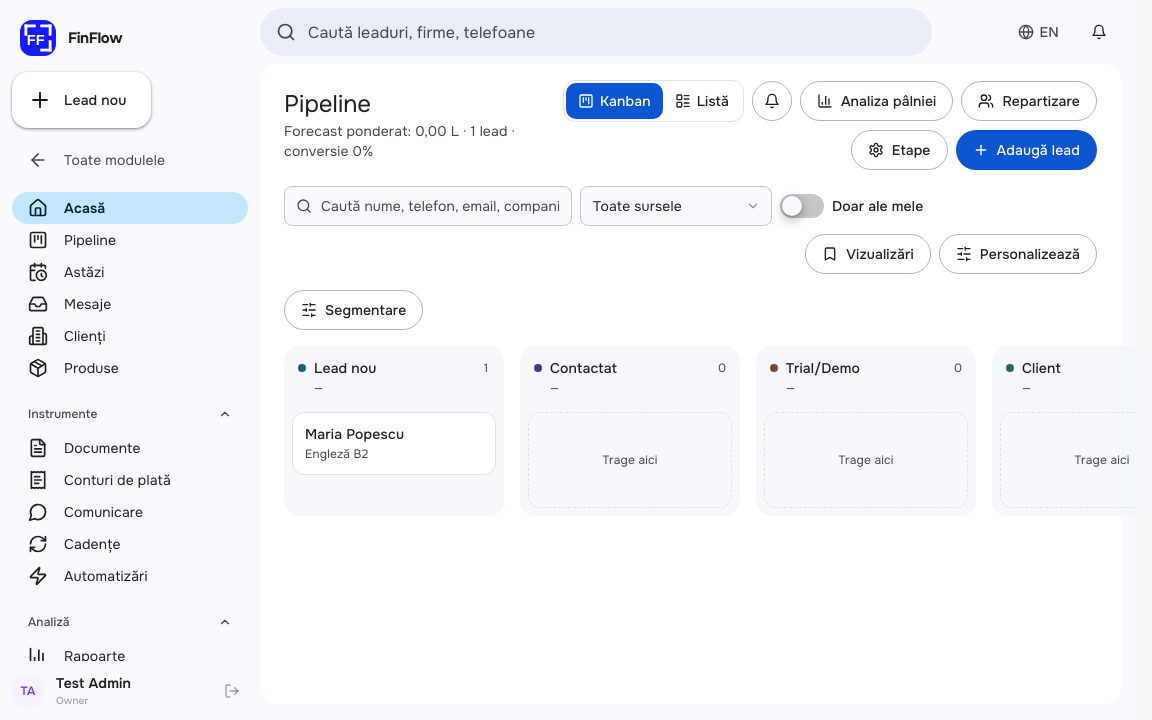
CRM (Faza 1) — LeadDetailSheet › adăugarea unei note apare imediat în istoric
Click the button with aria-label "Deschide lead Maria Popescu": x=394, y=444 top-left (293, 413), bottom-right (495, 474)
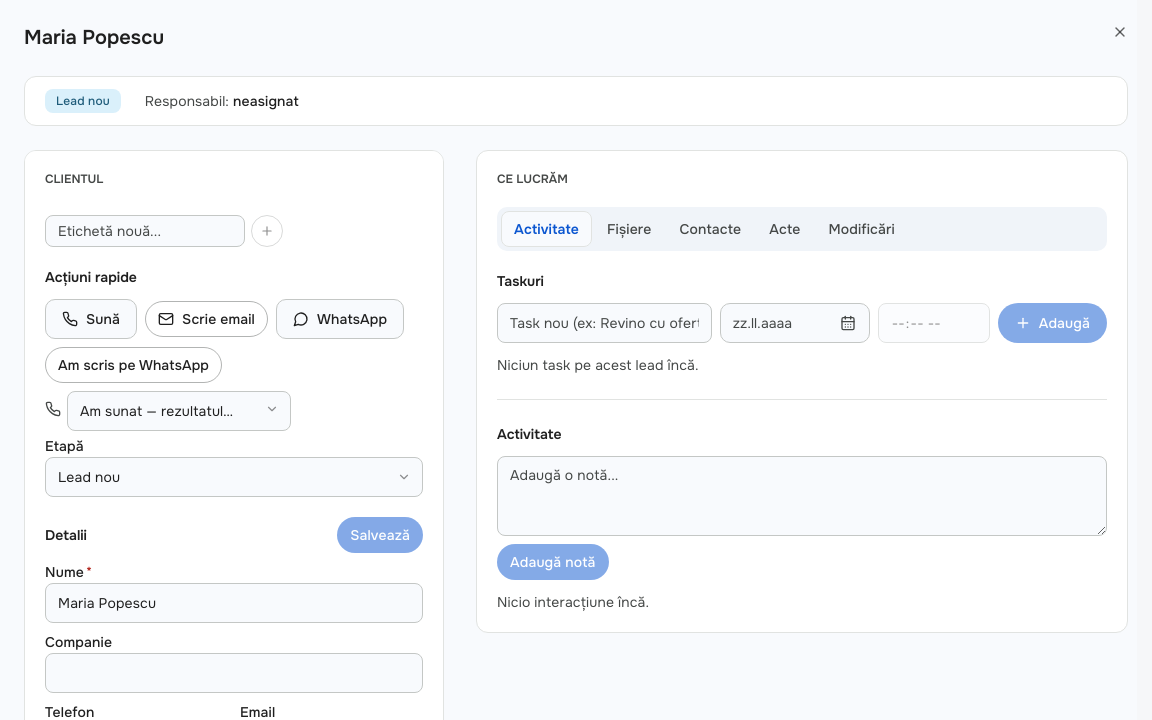
In the text box named "Notă nouă": x=802, y=496 top-left (497, 456), bottom-right (1107, 536), type "Vrea reprogramare joi"
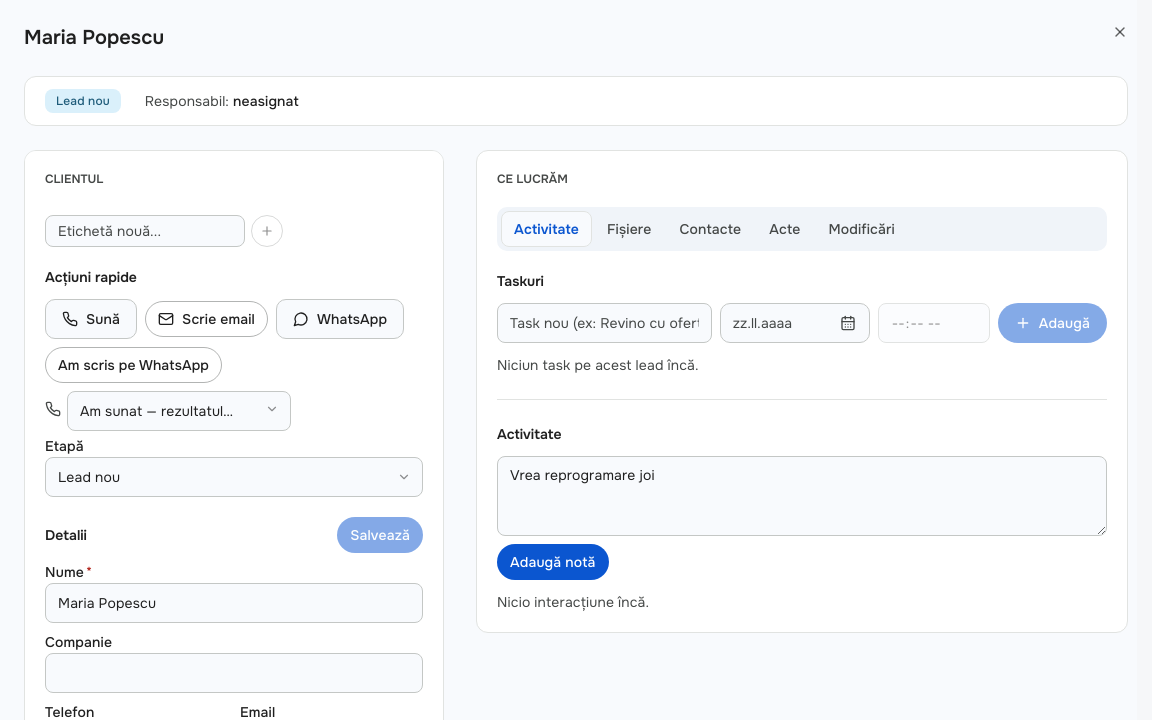
Click the button "Adaugă notă": x=553, y=562 top-left (497, 544), bottom-right (608, 580)
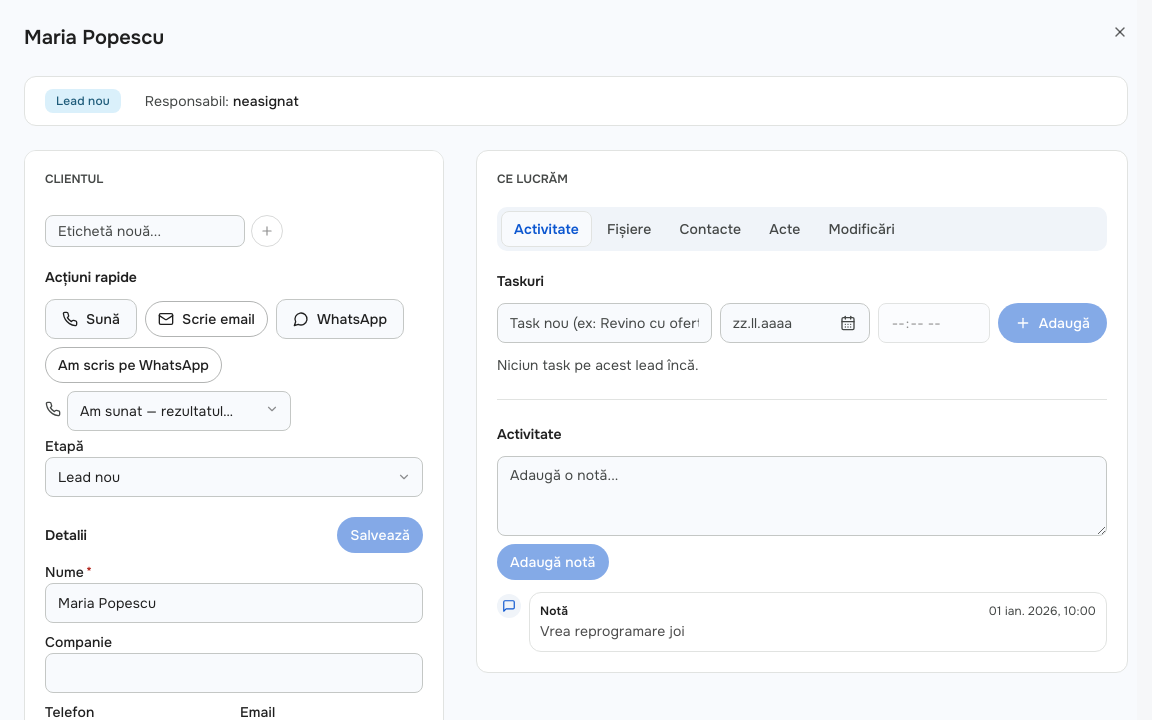
Expected: the text "Vrea reprogramare joi" is shown, top-left (540, 622), bottom-right (685, 640)
